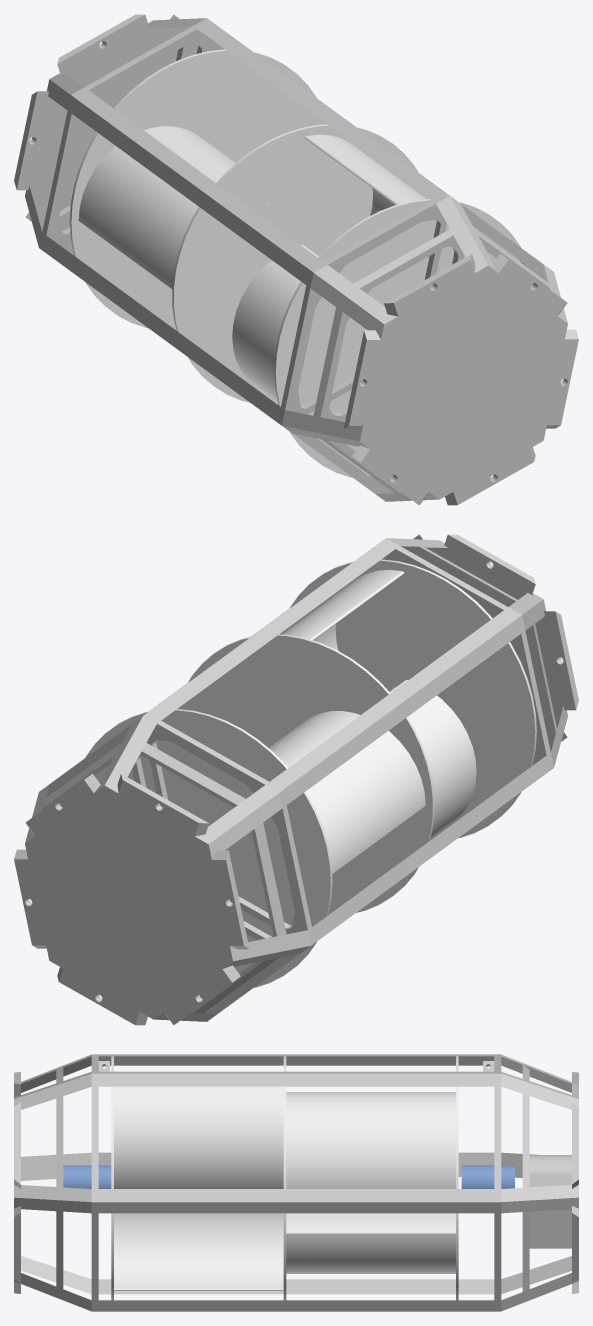
File: savonius-opt.glb
3 views of the same model, one above another, from view 1: azimuth 30°, elevation 25°; view 2: azimuth 150°, elevation 25°; view 3: azimuth 270°, elevation 25° (orthographic). The views are drawn at different scales.
Parts seen in each view (by area): view 1: Part 1 (×2); view 2: Part 1 (×2); view 3: Part 1 (×2), 4103-0032-0048.
Boxes of the visible parts, <box> form: Part 1 (×2): <box>14,14,578,505</box>; Part 1 (×2): <box>14,534,578,1025</box>; Part 1 (×2): <box>14,1054,578,1311</box>; 4103-0032-0048: <box>63,1165,514,1188</box>.
Bounding box in the file's own units: 0.2384 × 0.2429 × 0.508.
